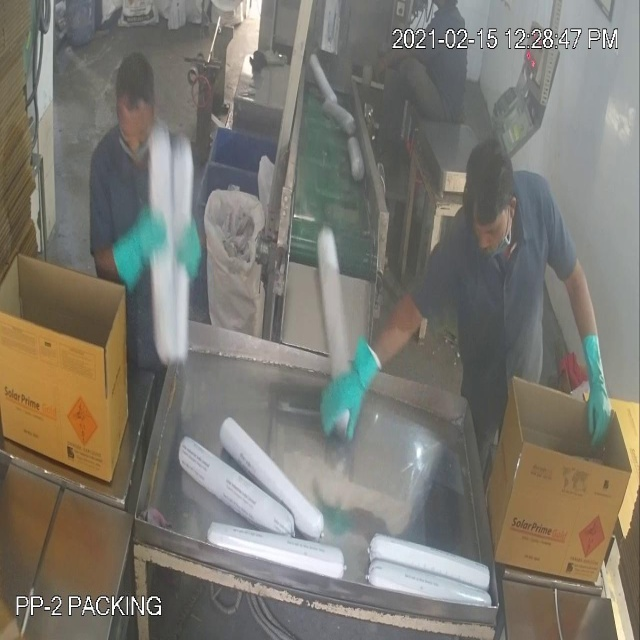Guantes: (317, 314, 388, 460), (575, 317, 624, 461), (103, 200, 171, 293)
